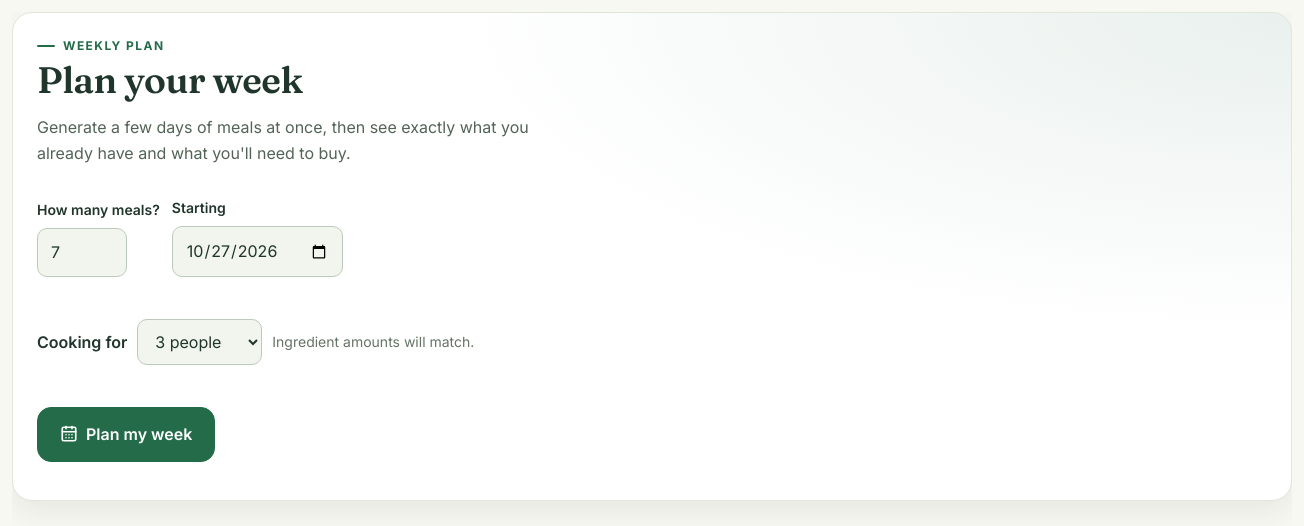
Test case: creates a plan with the chosen serving count and start date
Expected: the button "Plan my week" is enabled, x1=37 y1=407 x2=215 y2=462
Expected: the dropdown labelled "Cooking for" shows "3 people", x1=137 y1=319 x2=262 y2=365
Replace the text in the number field labelled "How many meals?" with "5": (82, 253) x1=37 y1=228 x2=127 y2=277
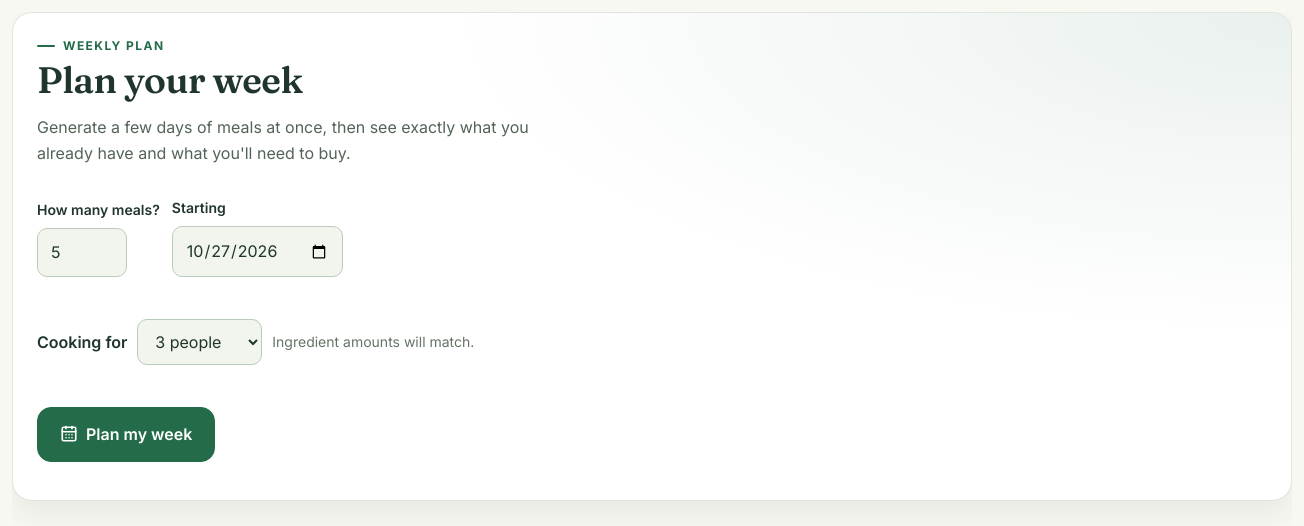
In the date field labelled "Starting": (257, 252) x1=172 y1=226 x2=343 y2=277, type "2026-10-12"
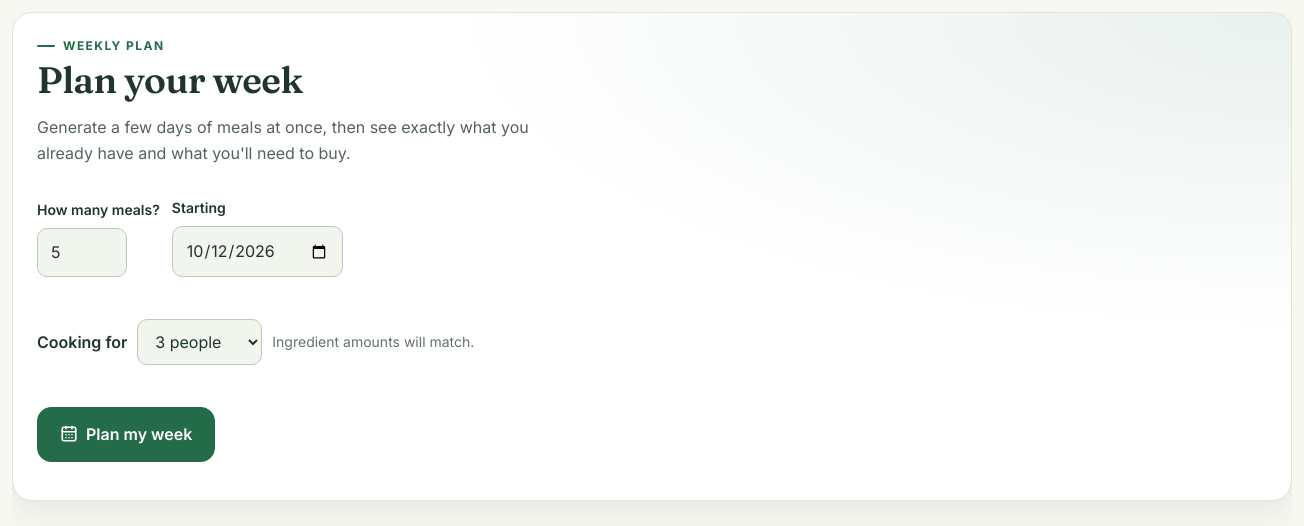
Select "6 people" in the dropdown labelled "Cooking for": (200, 342) x1=137 y1=319 x2=262 y2=365
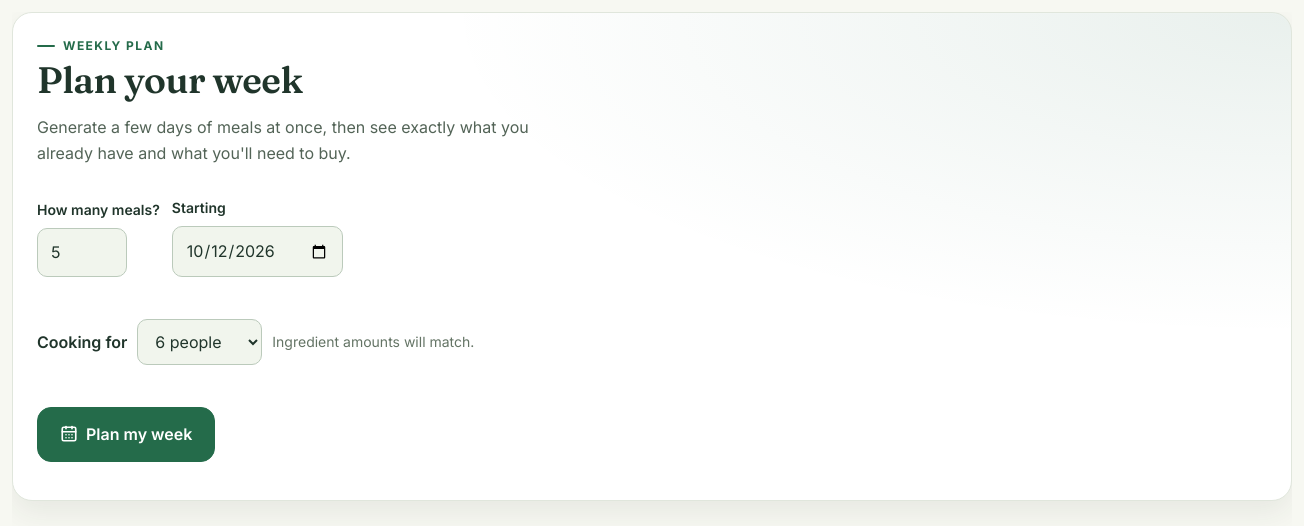
Click the button "Plan my week": (126, 434) x1=37 y1=407 x2=215 y2=462
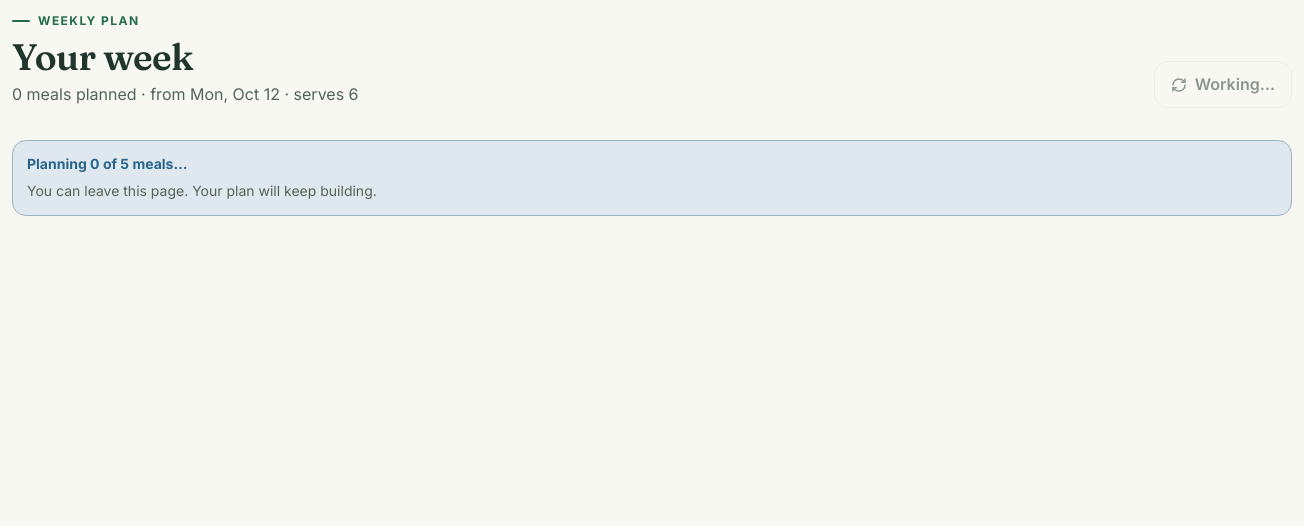
Result: the text "0 meals planned · from Mon, Oct 12 · serves 6" is shown at x1=12 y1=82 x2=358 y2=108
